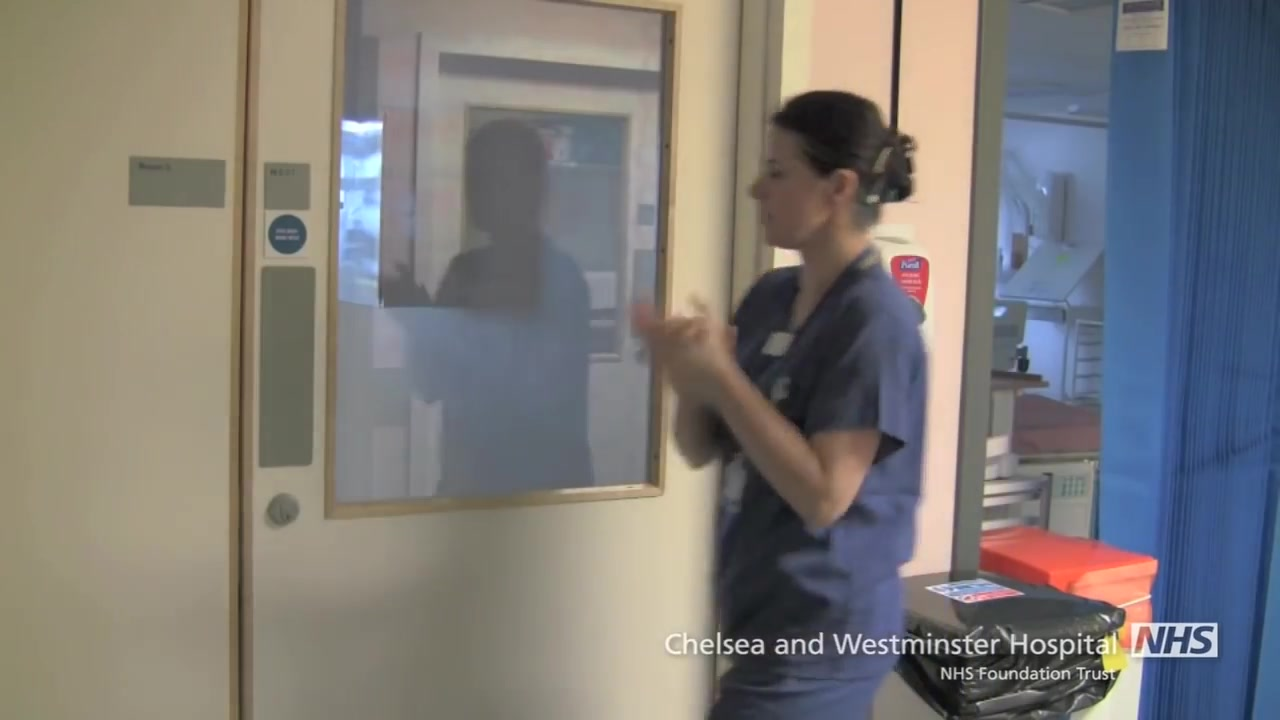curtain: (1094, 1, 1278, 718)
dispenser: (878, 244, 935, 352)
staff: (630, 89, 932, 720)
waste_bin: (871, 568, 1130, 720), (977, 523, 1159, 720)
